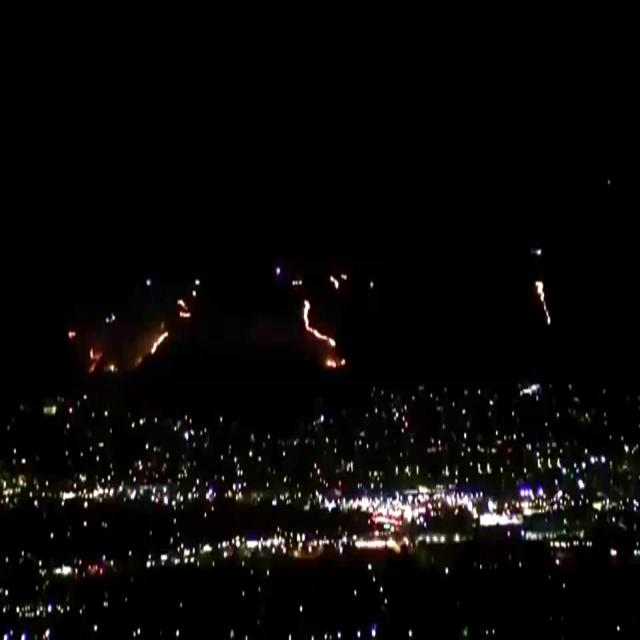Fire: (303, 299, 337, 348), (536, 278, 553, 324), (150, 329, 171, 355), (177, 296, 192, 319), (326, 356, 348, 368), (90, 347, 100, 360)
